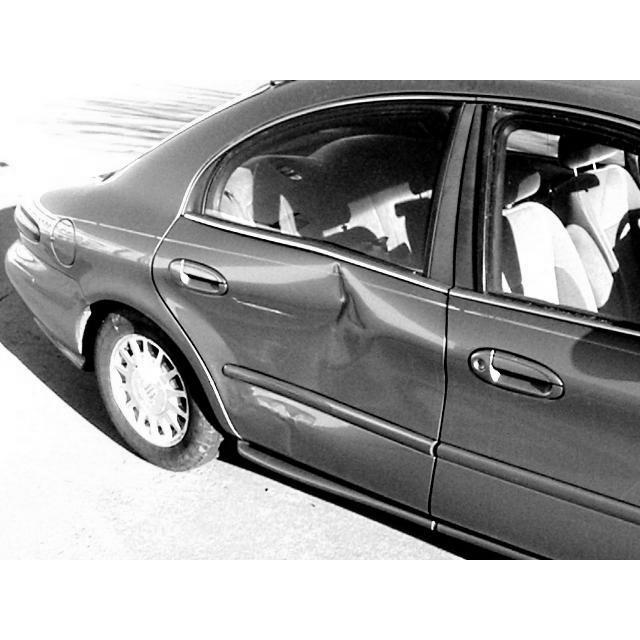doorouter-dent: (176, 210, 443, 507)
